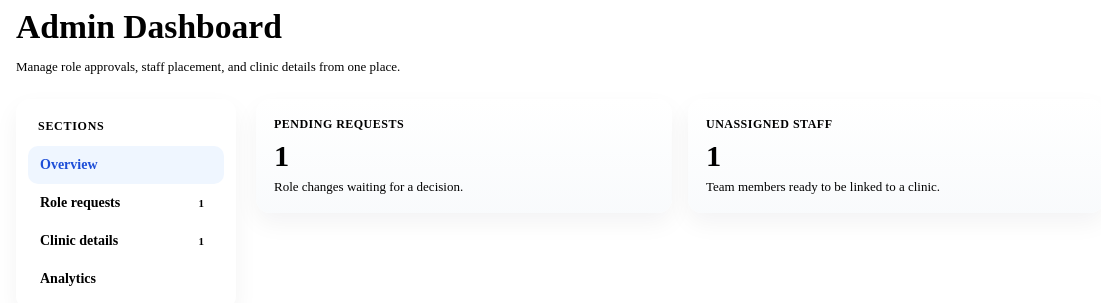
Test case: AdminDashboard › renders role request data when available
This screenshot has width=1101, height=303.
Click the button "Role requests 1".
click(126, 203)  # box [28, 184, 224, 222]
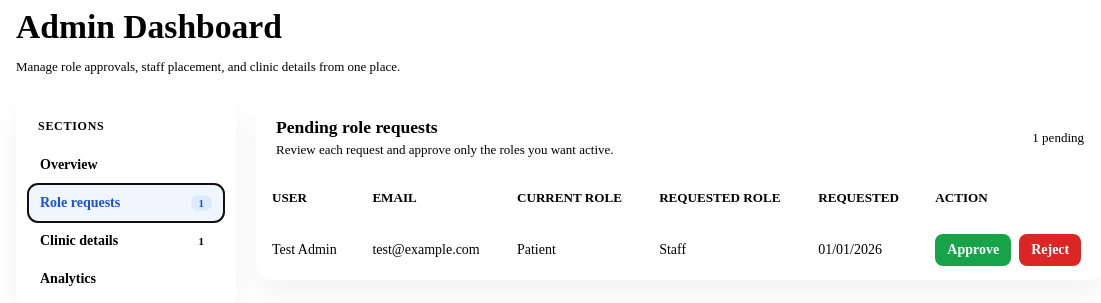
Result: the text "Test Admin" is shown at [256, 220, 356, 280]
Result: the text "test@example.com" is shown at [356, 220, 501, 280]
Result: the text "Patient" is shown at [501, 220, 643, 280]
